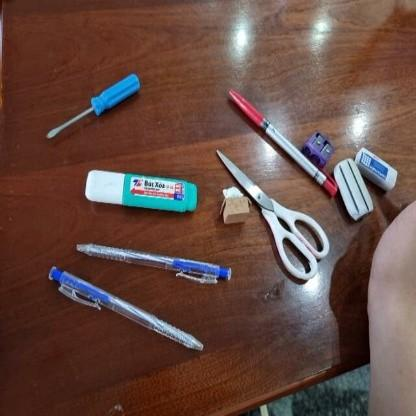not trash: (42, 261, 206, 358), (226, 88, 341, 202), (71, 240, 249, 288), (43, 67, 142, 146), (82, 164, 200, 216), (332, 159, 378, 225), (350, 139, 403, 189), (214, 184, 254, 226), (300, 128, 336, 168)
